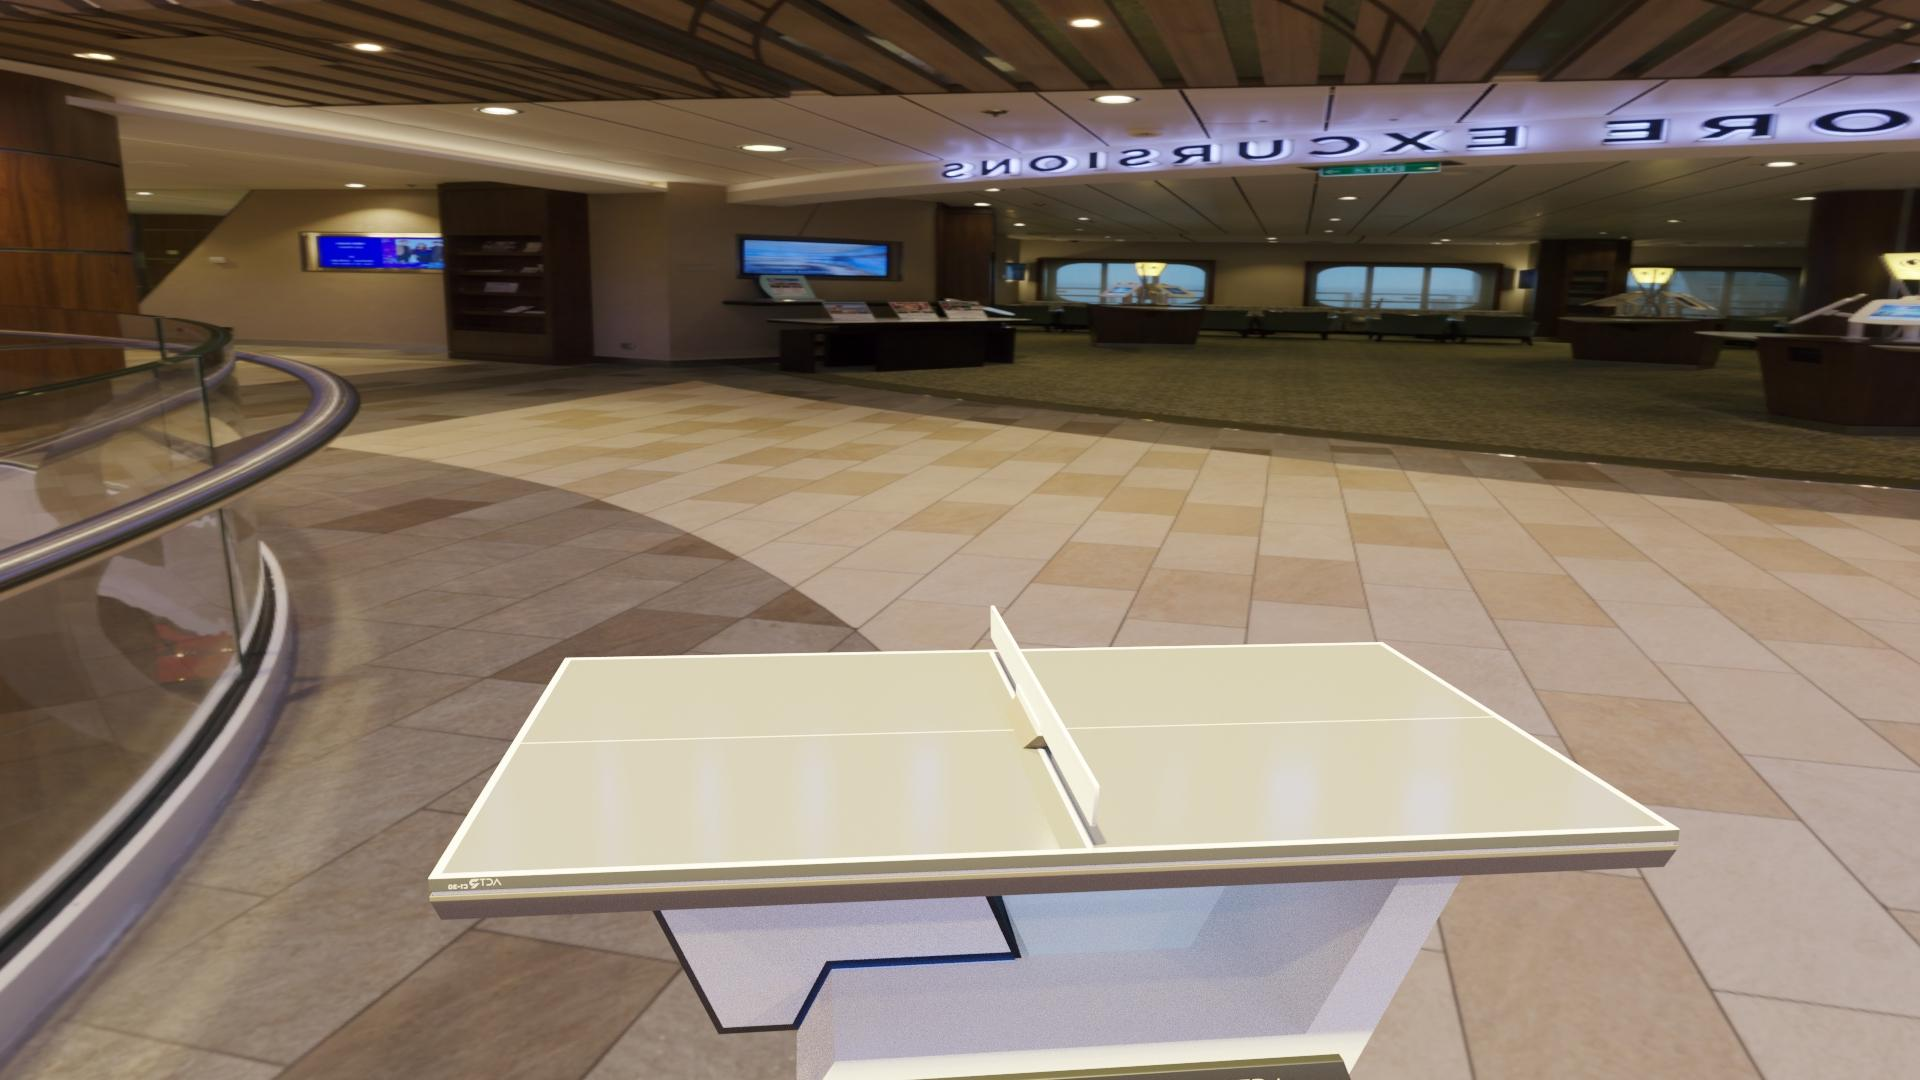table: (440, 644, 1667, 874)
